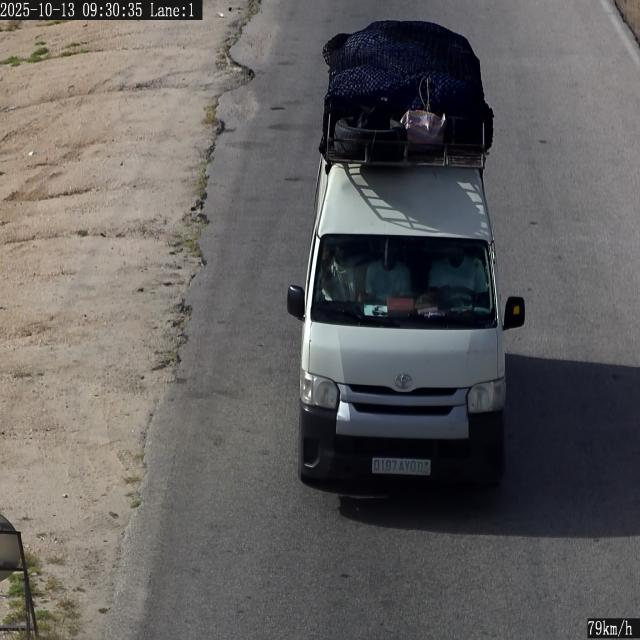BUS: (372, 458, 430, 475)
